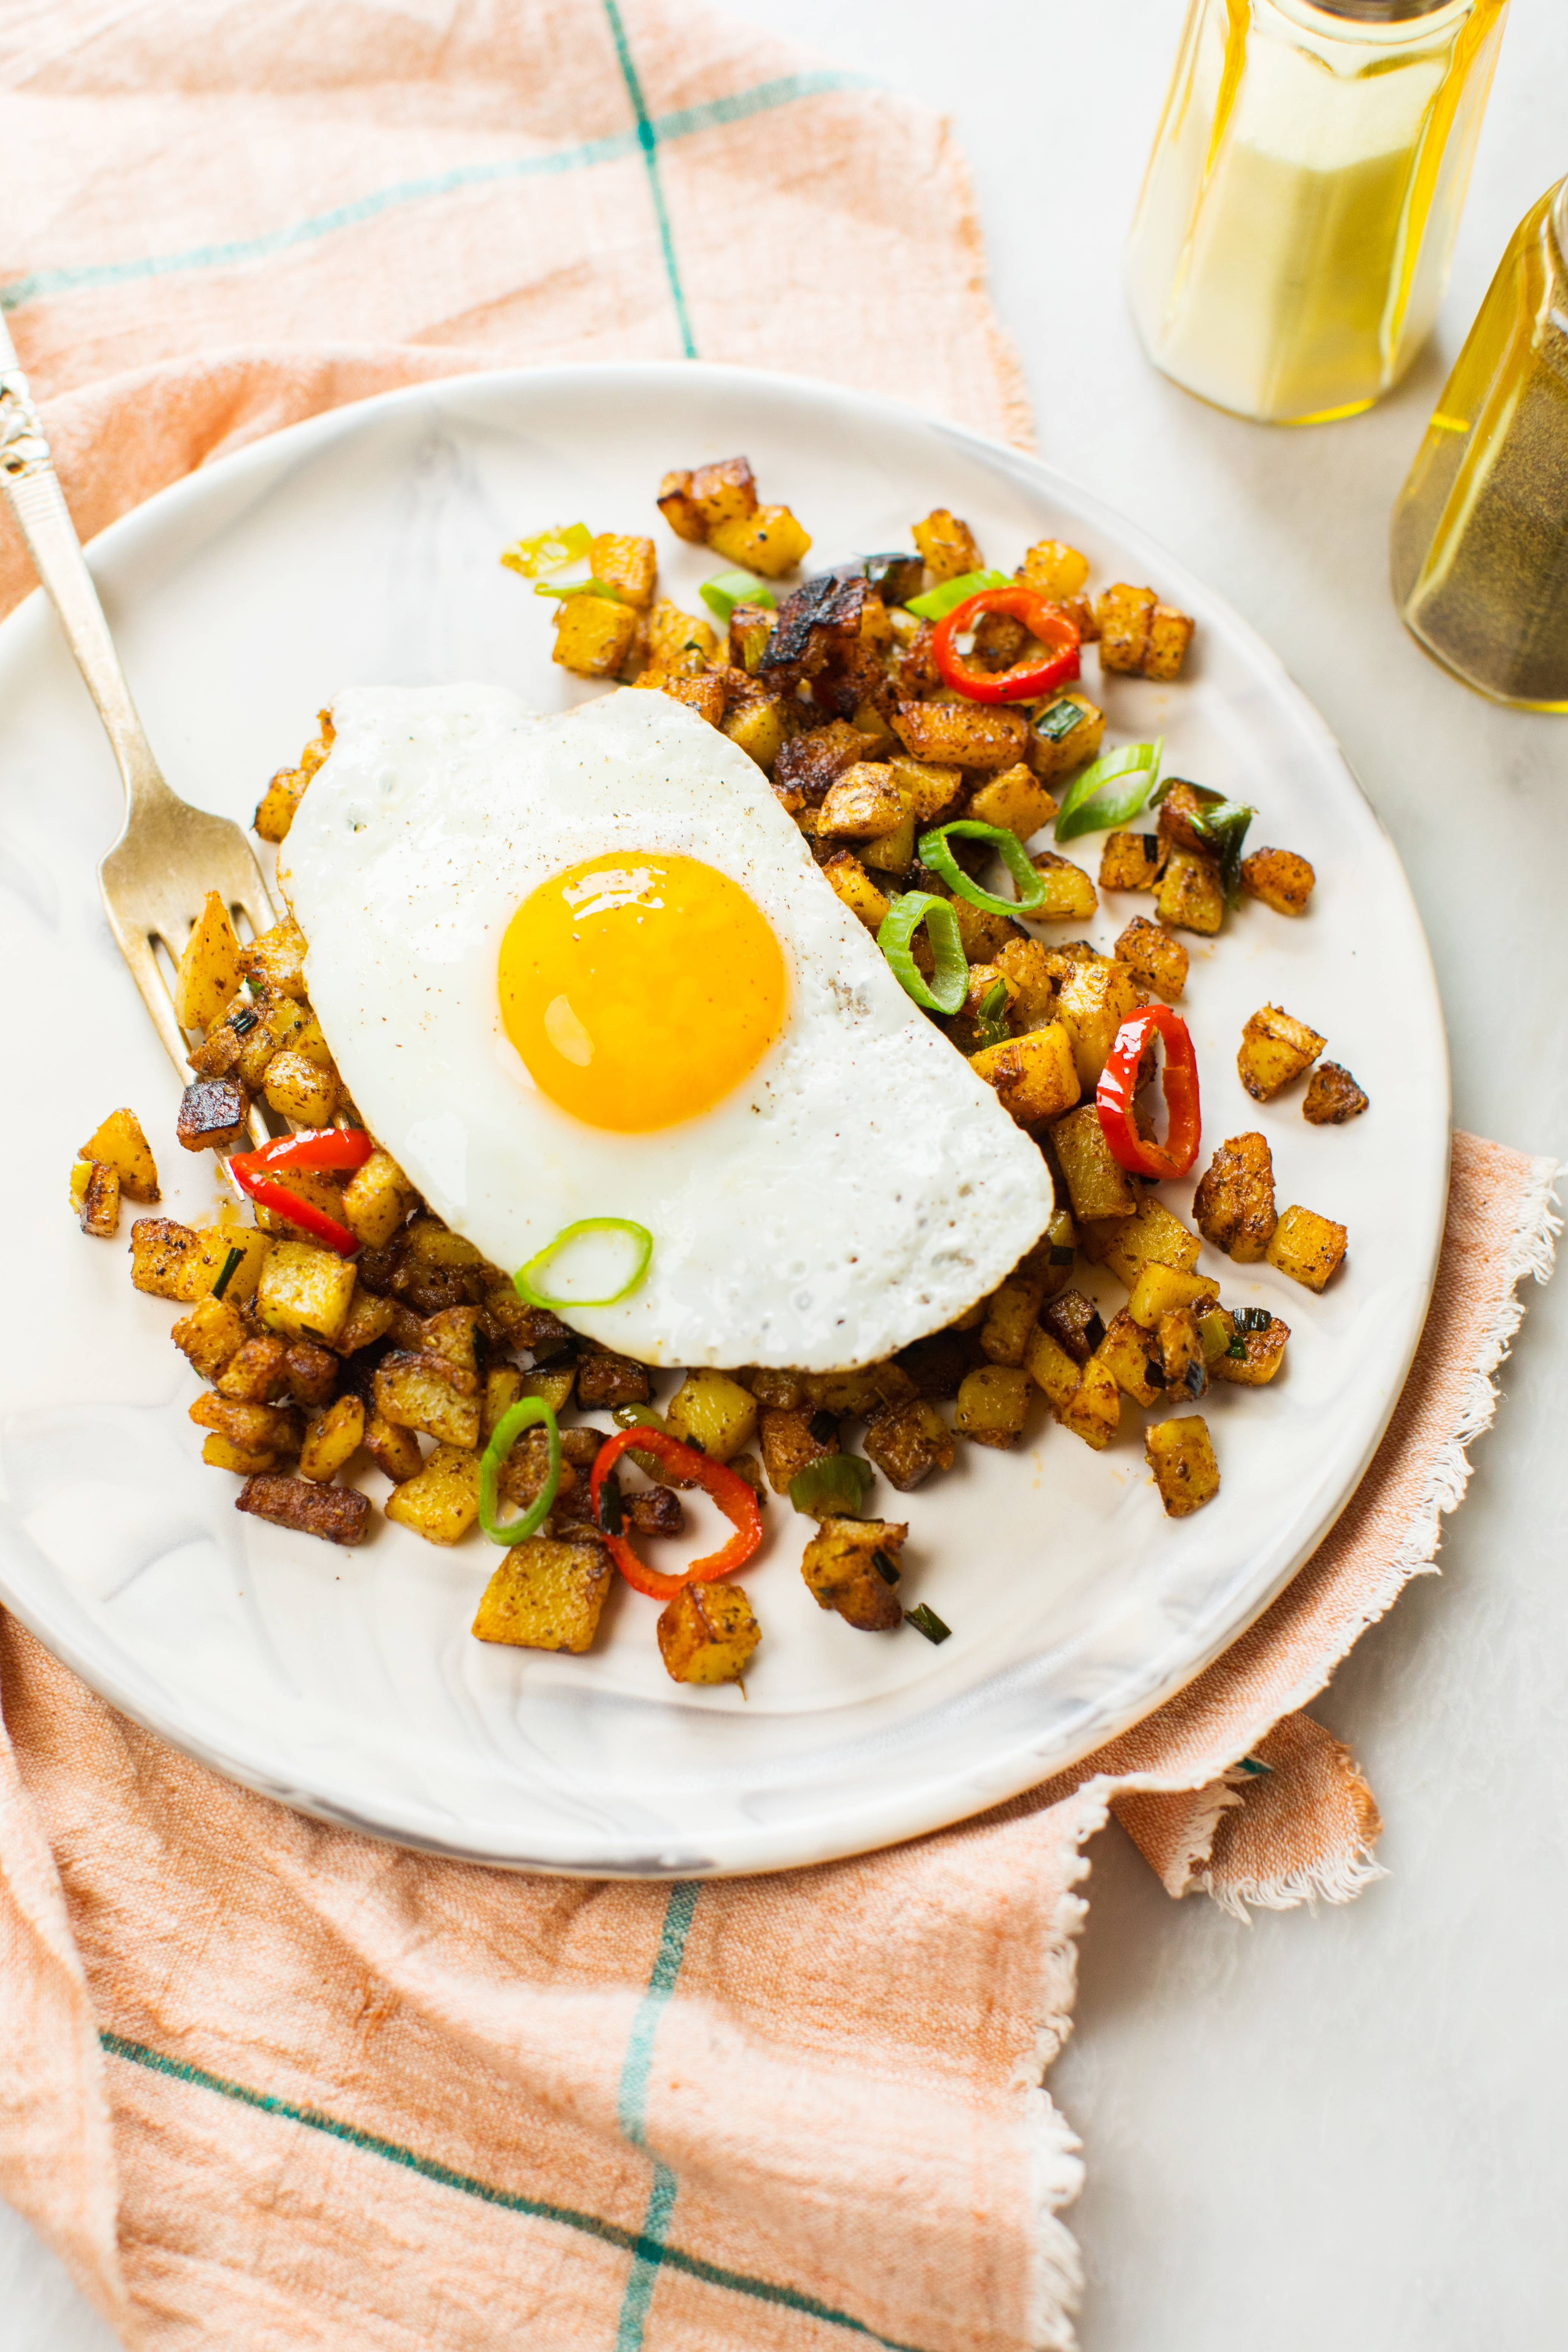fried egg: (273, 672, 1087, 1361)
